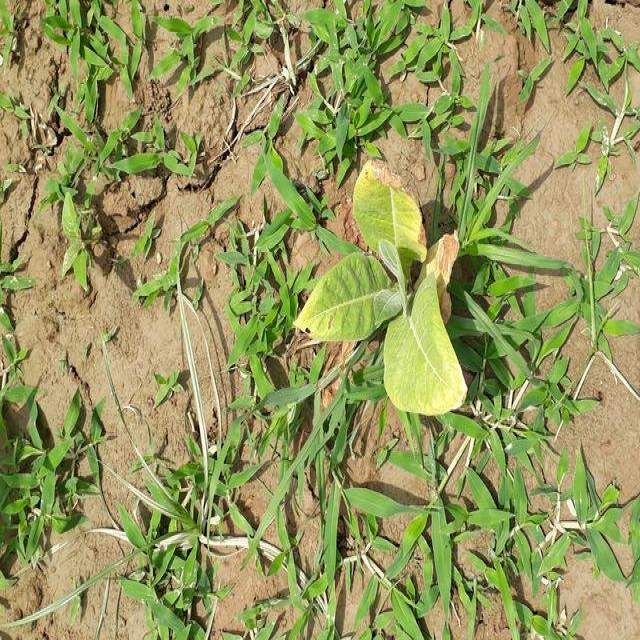crop: (295, 150, 474, 434)
